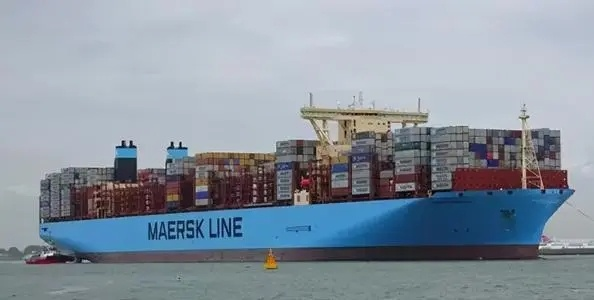Cargoship: (34, 88, 582, 259)
otherboat: (23, 232, 74, 266)
